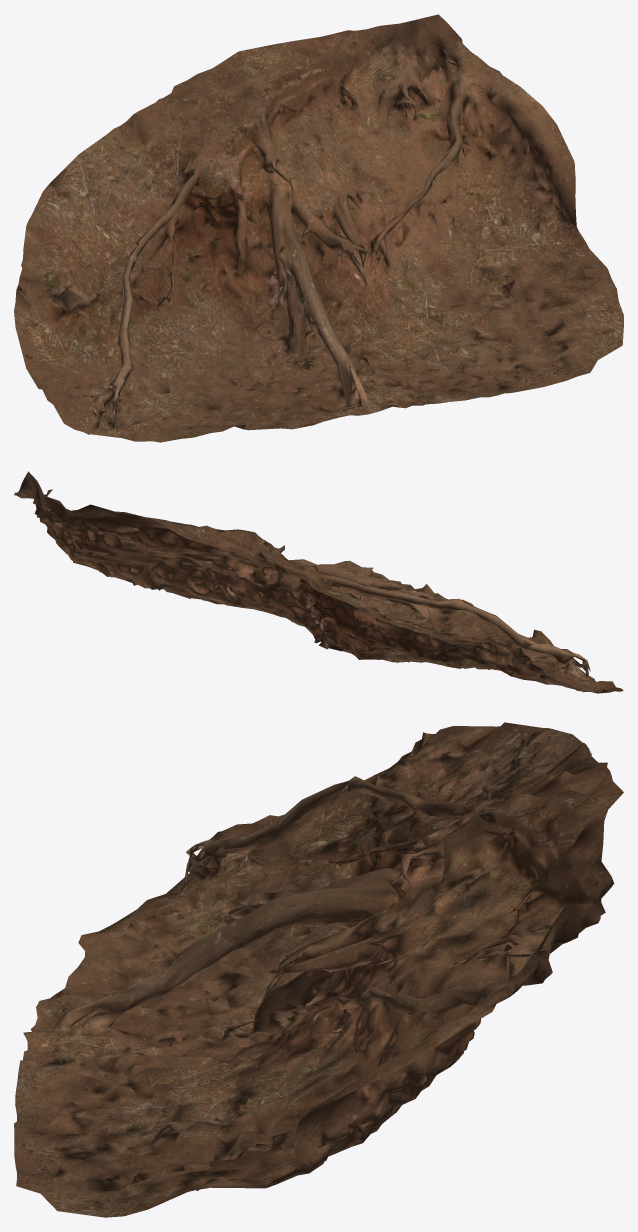
The model's file is root_cluster_01.glb.
3 renders of one model, top to bottom at view 1: azimuth 30°, elevation 25°; view 2: azimuth 150°, elevation 25°; view 3: azimuth 270°, elevation 25°, orthographic. The views are drawn at different scales.
Parts seen in each view (by area): view 1: root_cluster_01; view 2: root_cluster_01; view 3: root_cluster_01.
Boxes of the visible parts, box(x1,y1,x2,y2) form: root_cluster_01: box(14, 14, 623, 442); root_cluster_01: box(14, 471, 623, 693); root_cluster_01: box(14, 722, 623, 1217).
Size of the model in its own units: 4.12 by 1.51 by 2.68.
Materials: 1 (1 with a texture image).
